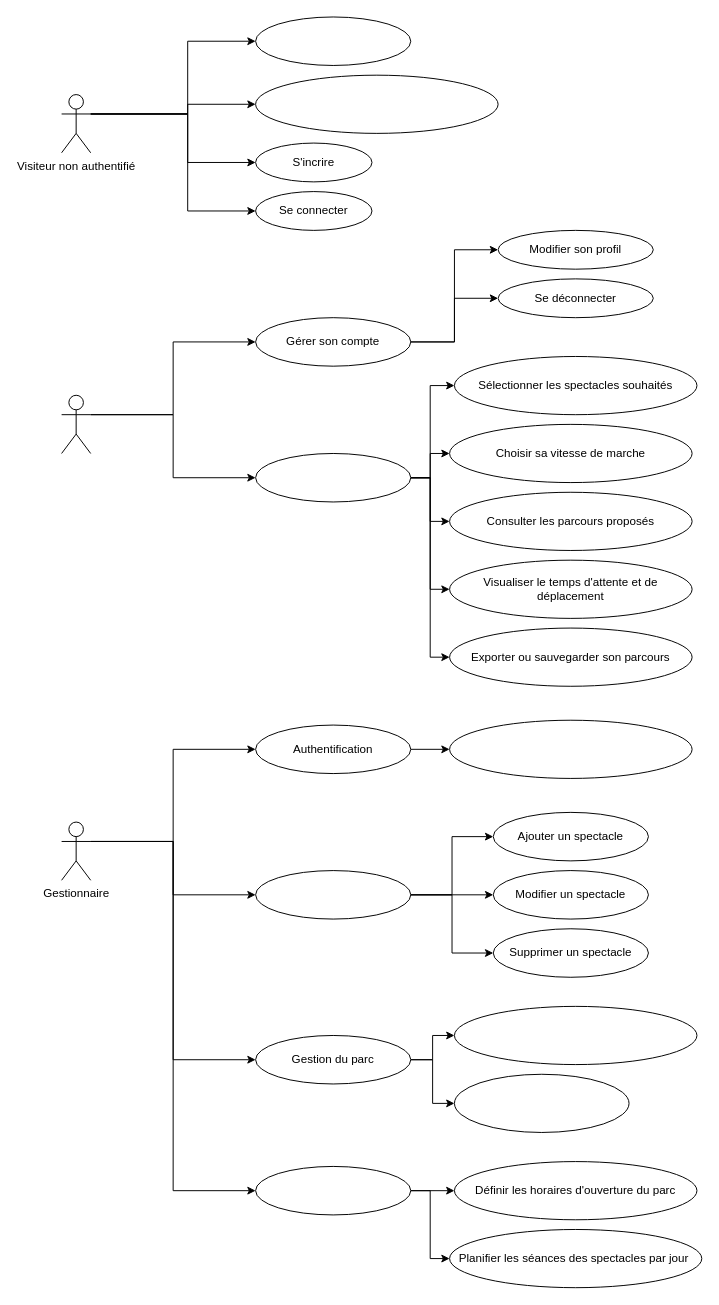
This 719x1305 diagram has some shape labels left out. Each missing label, with the centre of its shape:
Construire un parcours: the point at 333,477
Consulter les horaires d'ouverture du parc: the point at 376,103
Consulter les spectacles: the point at 333,40
Gestion des spectacles: the point at 333,894
Gestion du programme: the point at 333,1190
Mettre à jour le plan du parc: the point at 541,1102
Modifier les distances entre les spectacles: the point at 575,1035
Se connecter à l'espace d'administration: the point at 570,748
Visiteur authentifié: the point at 76,423
